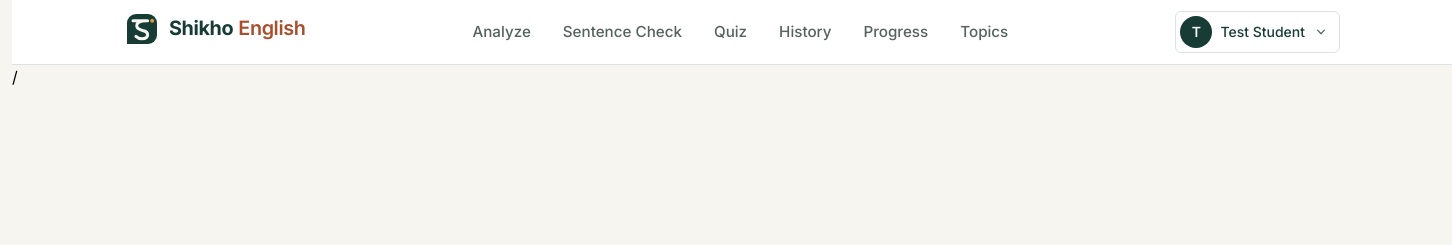
Test case: Navbar › the account menu closes with Escape and returns focus to its button
The width and height of the screenshot is (1452, 245).
Click the button with aria-label "Account menu for Test Student": (1258, 32) x1=1175 y1=11 x2=1340 y2=53
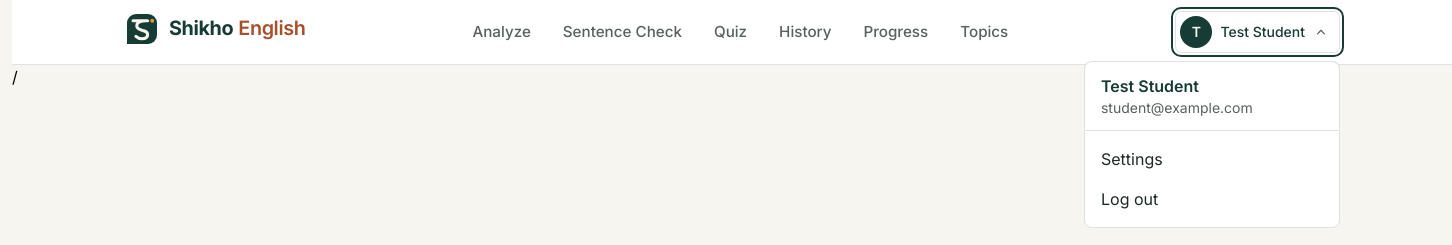
Expected: the text "student@example.com" is shown, x1=1101 y1=99 x2=1253 y2=116
Press Escape
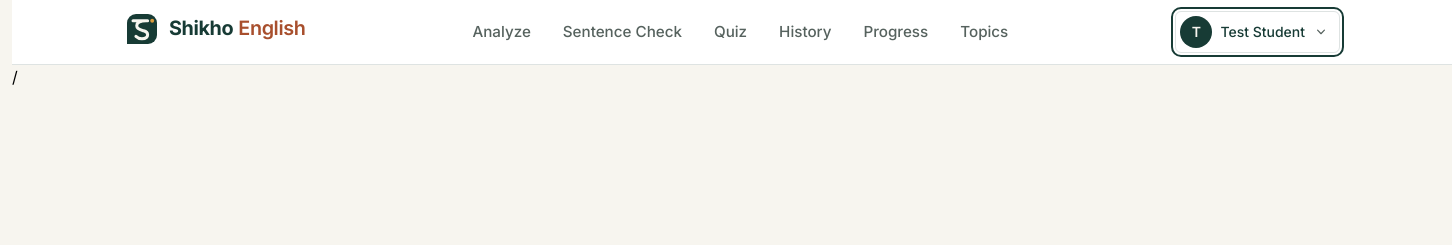
Expected: the element with id "account-menu" is gone
